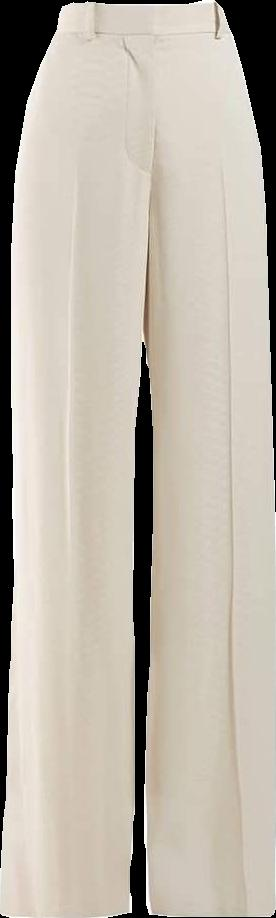Hemline: (0, 902, 135, 917), (145, 904, 275, 917)
Pantleg: (0, 2, 158, 917), (142, 0, 275, 914)
Waistline: (53, 25, 233, 42), (59, 0, 220, 15)
